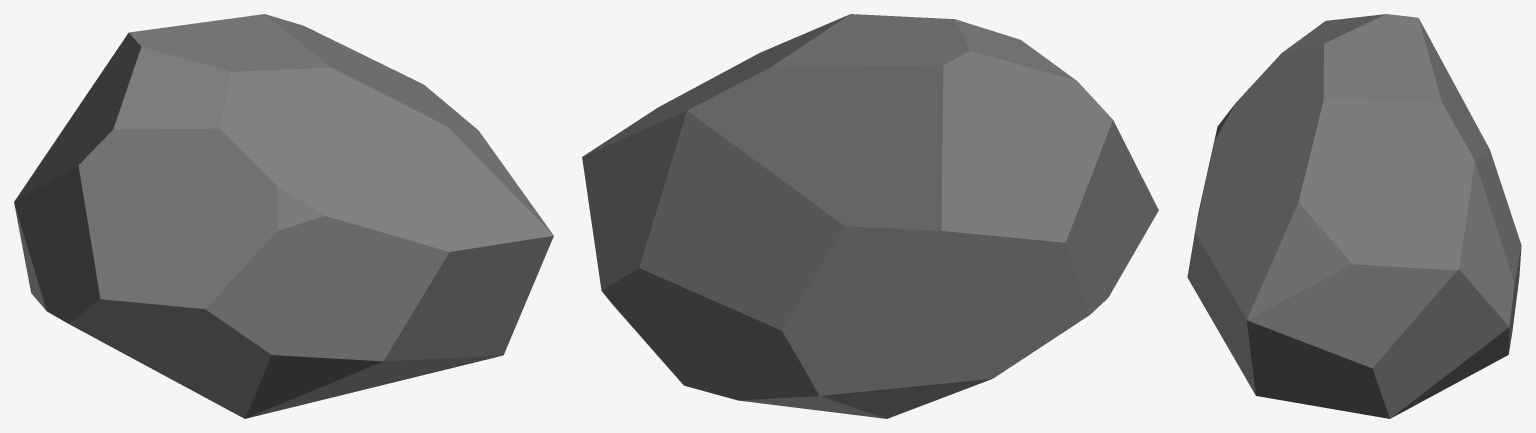
File: rock_05.glb
3 renders of one model, left to right at view 1: azimuth 30°, elevation 25°; view 2: azimuth 150°, elevation 25°; view 3: azimuth 270°, elevation 25°, orthographic. The views are drawn at different scales.
Parts seen in each view (by area): view 1: Rock_05; view 2: Rock_05; view 3: Rock_05.
Part boxes in pixels (left/top/right/bottom): Rock_05: left=14, top=14, right=553, bottom=418; Rock_05: left=582, top=14, right=1158, bottom=418; Rock_05: left=1187, top=14, right=1521, bottom=418.
Size of the model in its own units: 2.93 by 1.95 by 2.19.
Materials: 1 (1 with a texture image).
